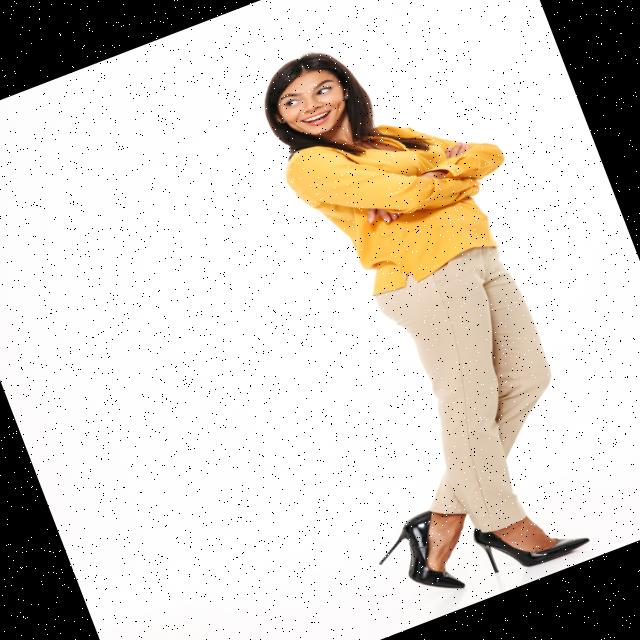Person: (201, 1, 640, 617)
